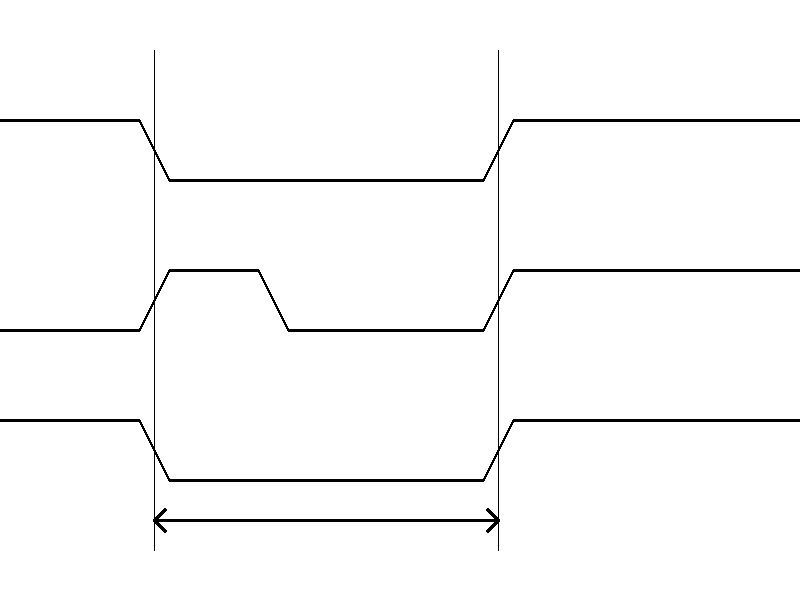double_arrow: (154, 505, 498, 535)
